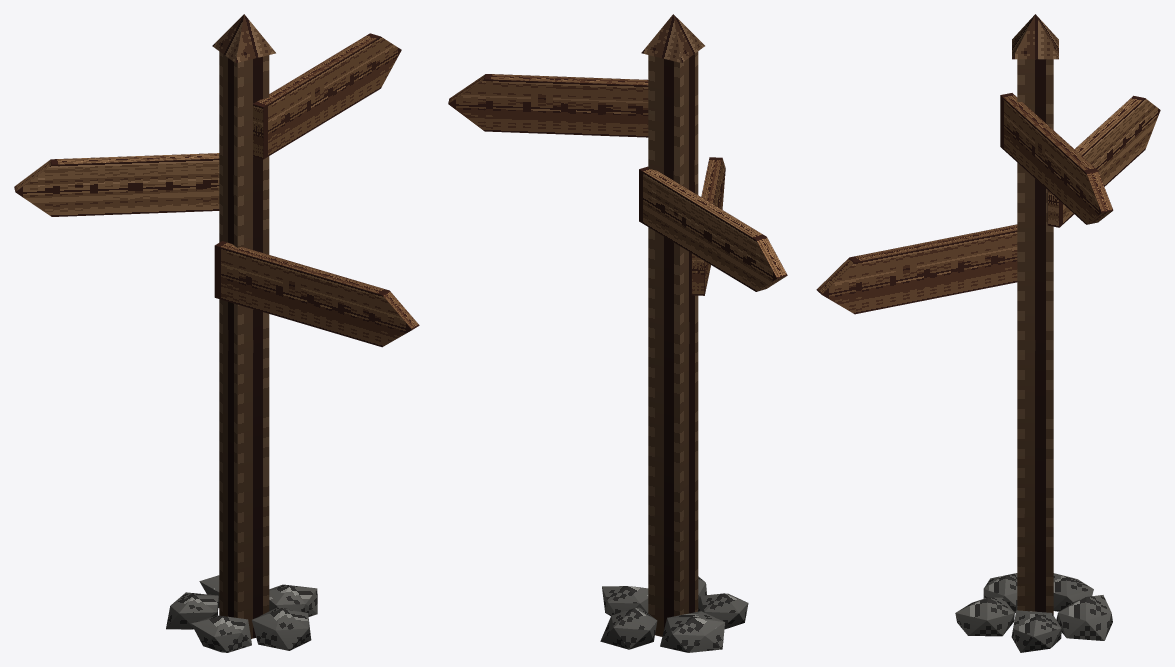
File: signpost.glb
The picture shows the model from 3 angles, left to right: view 1: azimuth 30°, elevation 25°; view 2: azimuth 150°, elevation 25°; view 3: azimuth 270°, elevation 25°; orthographic projection.
Visible parts, largest first — view 1: signpost; view 2: signpost; view 3: signpost.
Boxes of the visible parts, x1,y1,x2,y2 form: signpost: (14, 14, 419, 652); signpost: (448, 14, 787, 652); signpost: (816, 14, 1160, 652).
Bounding box in the file's own units: 1.6 × 2.6 × 1.32.
Materials: 4 (4 with a texture image).
